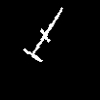double_crochet: (24, 8, 62, 61)
